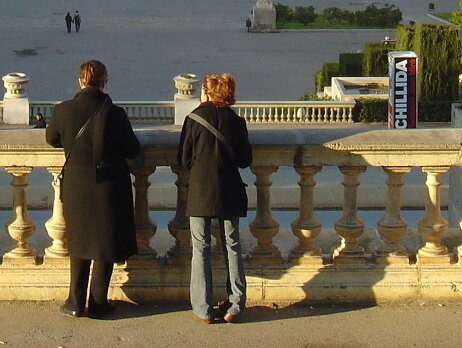person: (46, 59, 141, 322), (175, 70, 268, 323)
